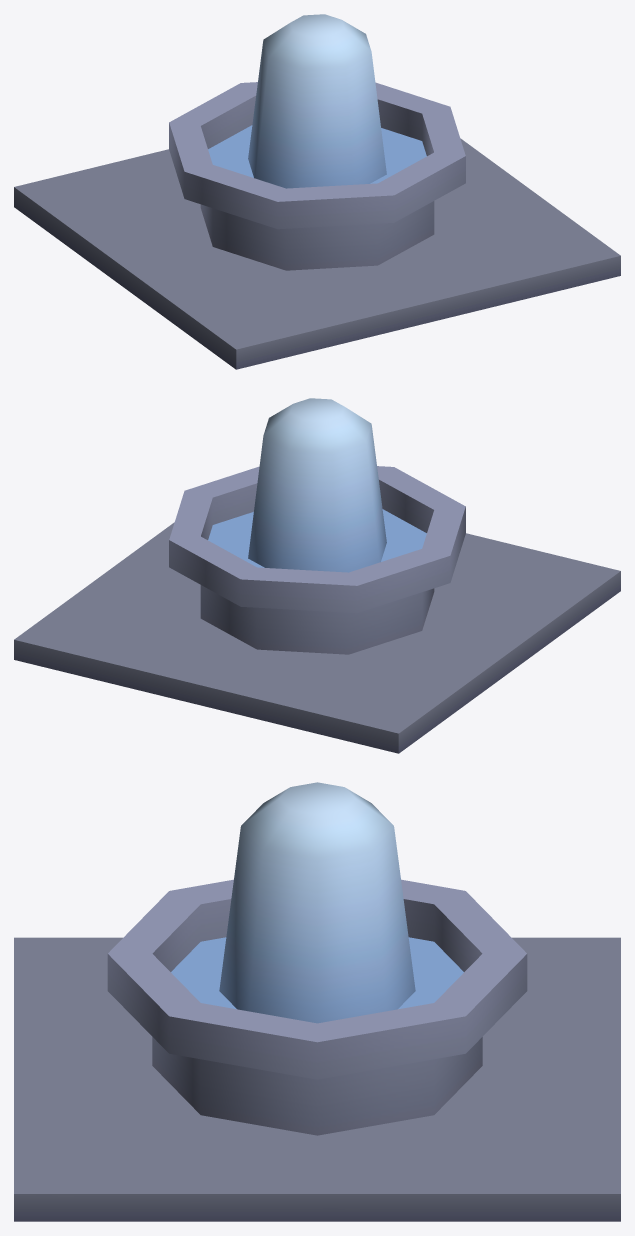
File: pavement-fountain.glb
The picture shows the model from 3 angles, top to bottom: view 1: azimuth 30°, elevation 25°; view 2: azimuth 150°, elevation 25°; view 3: azimuth 270°, elevation 25°; orthographic projection. The views are drawn at different scales.
Visible parts, largest first — view 1: pavement-fountain; view 2: pavement-fountain; view 3: pavement-fountain.
Boxes of the visible parts, x1,y1,x2,y2 form: pavement-fountain: (14, 14, 620, 369); pavement-fountain: (14, 398, 620, 753); pavement-fountain: (14, 782, 620, 1221).
Bounding box in the file's own units: 1 × 0.536 × 1.
1 material, 1 textured.
